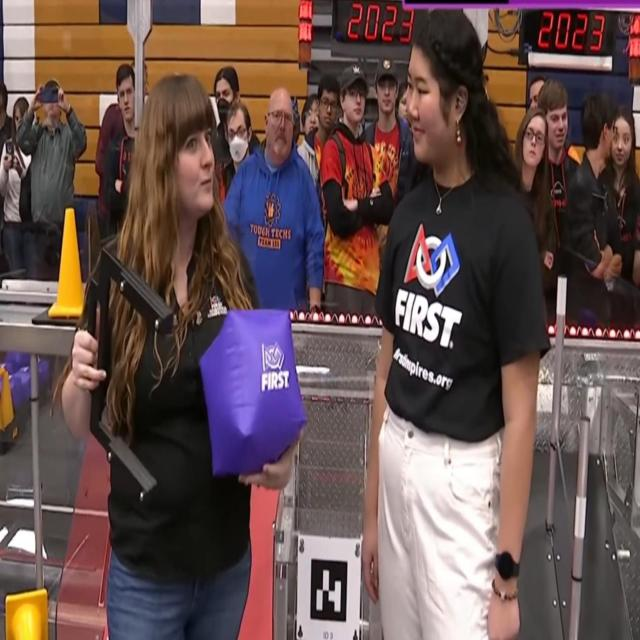frc_cone: (50, 204, 89, 316), (7, 587, 49, 640), (3, 372, 18, 439)
frc_cube: (200, 309, 306, 486), (12, 363, 36, 418), (33, 353, 55, 381), (5, 345, 26, 371)
